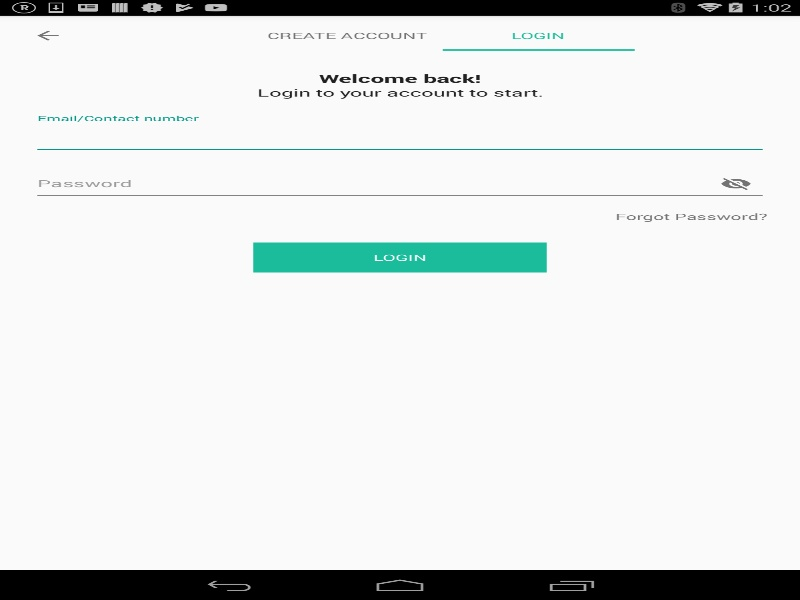Button: (253, 242, 546, 272), (10, 15, 85, 55), (704, 169, 768, 199)
Input: (32, 121, 768, 154), (32, 167, 768, 200)
